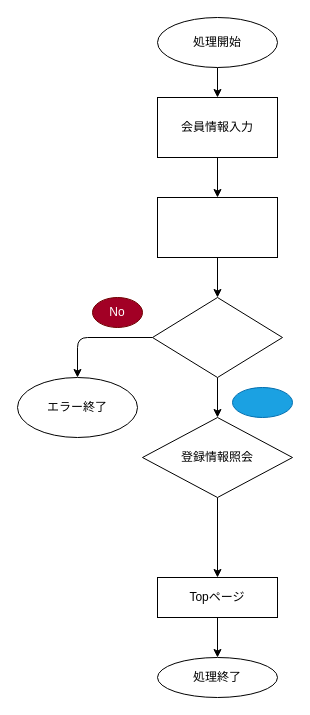
The diagram is 310 pixels wide and 715 high, and some of its shapes have lost their labels. The shapes that lost their labels are listed below. From the top down, each one's box as (x1, y1, x2, y2) in pixels, then its label:
(156, 196, 278, 258): ログインボタンを押す
(152, 296, 282, 378): リクエストは適切か
(232, 386, 292, 418): Yes
